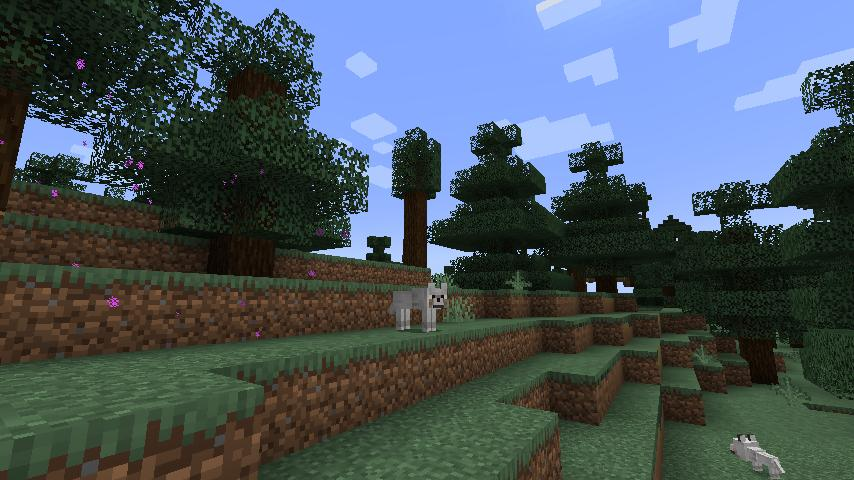wolf: (386, 282, 450, 334), (727, 432, 787, 480)
